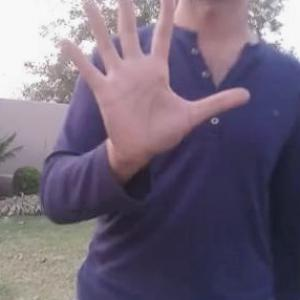follow_hand: (54, 0, 250, 167)
